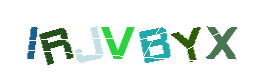B: (92, 0, 172, 80)
I: (0, 0, 80, 80)
J: (76, 0, 156, 80)
R: (65, 0, 145, 80)
V: (78, 0, 158, 80)
X: (168, 0, 248, 80)
Y: (108, 0, 188, 80)
